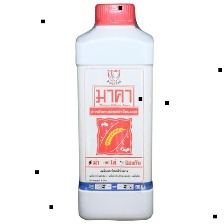insecticide: (70, 1, 156, 223)
